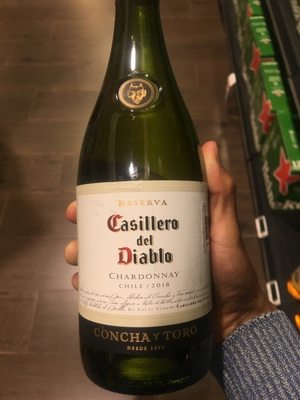casillero del diablo chardonnay: (72, 10, 220, 378)
